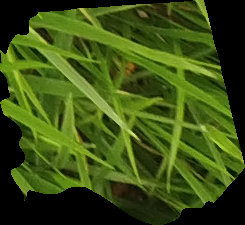grass: (1, 1, 244, 224)
